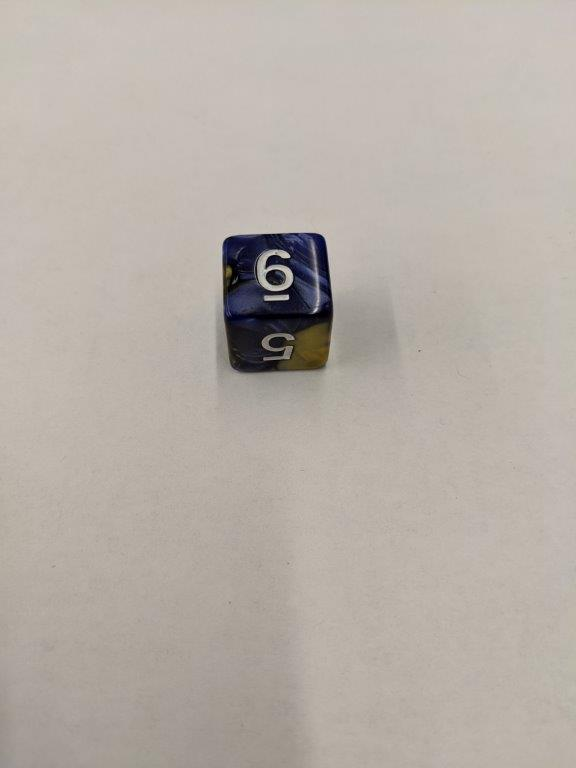d6-6: (220, 231, 333, 372)
